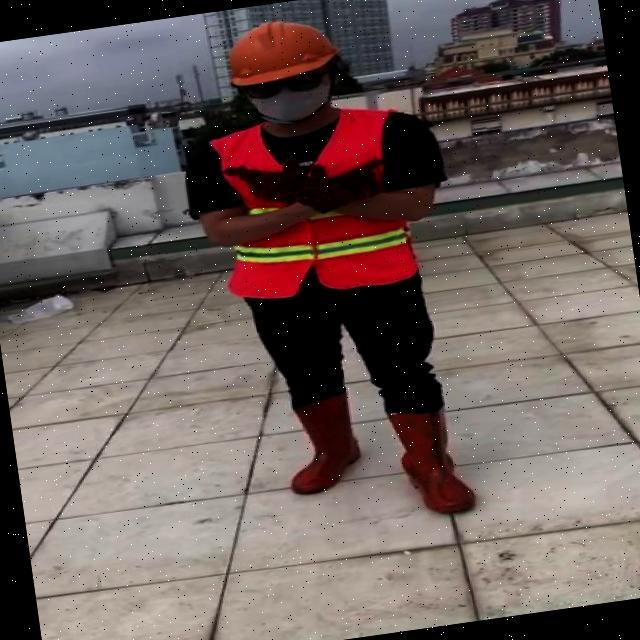boots: (386, 400, 476, 520), (276, 393, 371, 495)
helmet: (162, 0, 507, 557), (219, 12, 341, 86)
vest: (208, 104, 420, 308)
